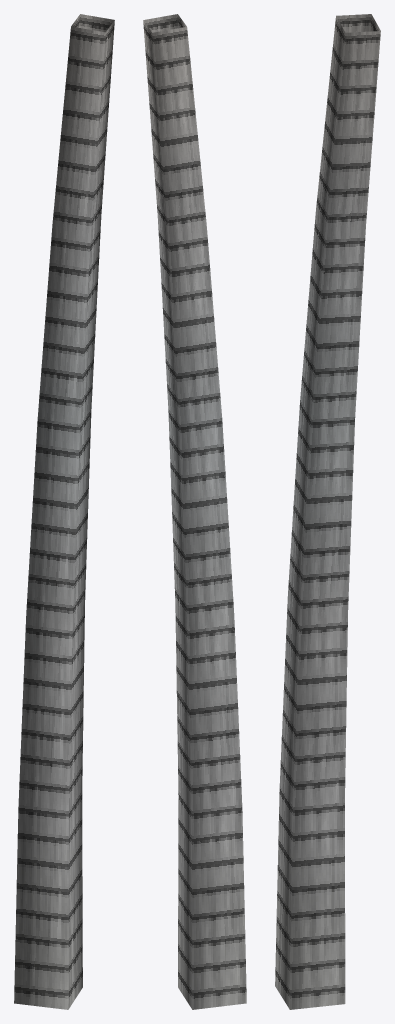
Rendered from palm_short_bark_l2.gltf.
3 renders of one model, left to right at view 1: azimuth 30°, elevation 25°; view 2: azimuth 150°, elevation 25°; view 3: azimuth 330°, elevation 25°, orthographic. The views are drawn at different scales.
Parts seen in each view (by area): view 1: palm_short_bark_l2; view 2: palm_short_bark_l2; view 3: palm_short_bark_l2.
Boxes of the visible parts, bbox=[...] form: palm_short_bark_l2: bbox=[14, 14, 114, 1009]; palm_short_bark_l2: bbox=[143, 14, 246, 1009]; palm_short_bark_l2: bbox=[275, 14, 380, 1009].
Size of the model in its own units: 0.501 by 4.51 by 0.3375.
1 material, 1 textured.
